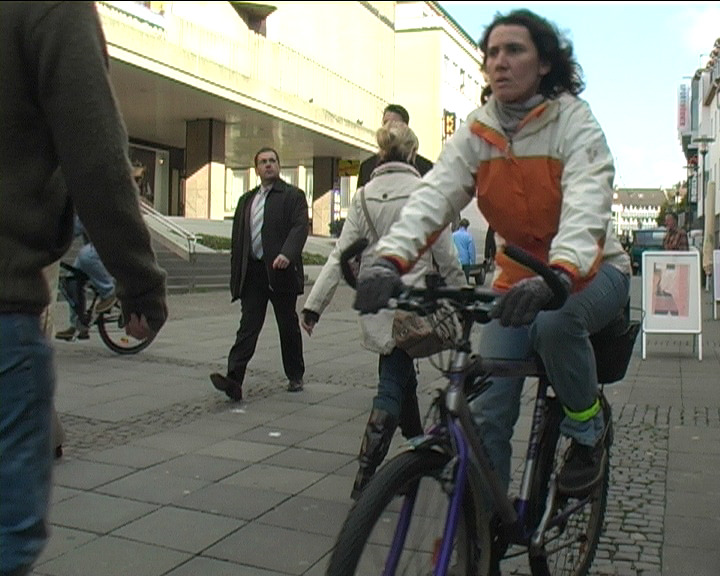deflection: (233, 146, 308, 233)
